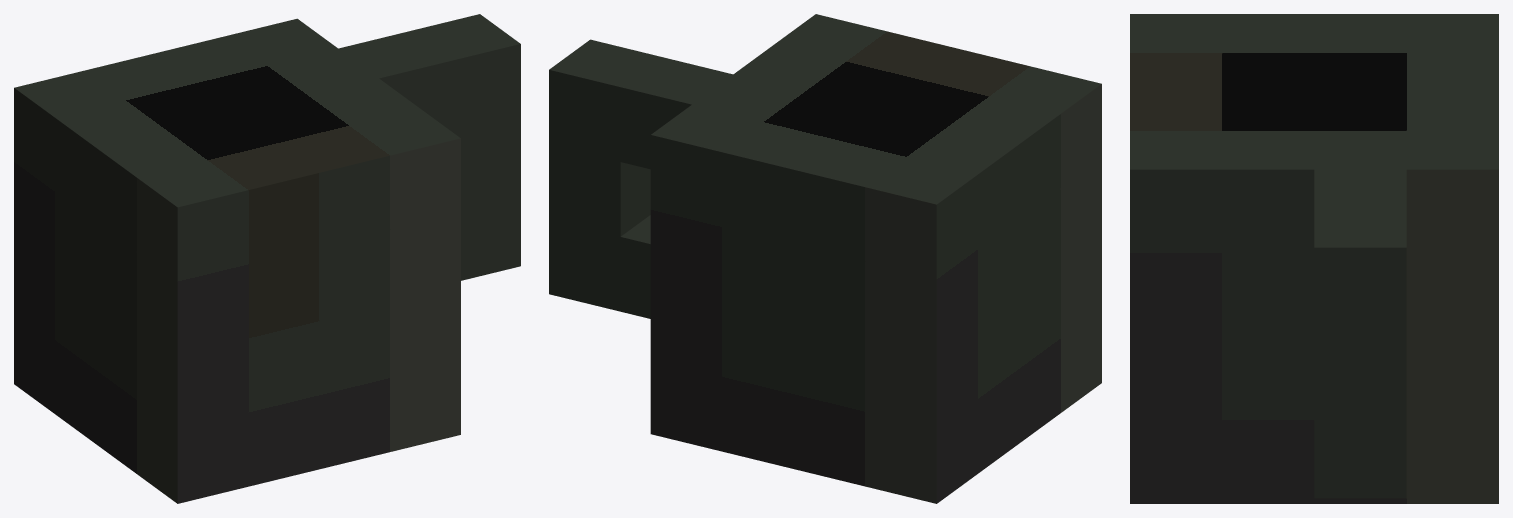
Rendered from mug.fbx.
3 views of the same model, side by side, from view 1: azimuth 30°, elevation 25°; view 2: azimuth 150°, elevation 25°; view 3: azimuth 270°, elevation 25° (orthographic). The views are drawn at different scales.
Visible parts, largest first — view 1: cube, cube_1, cube_2; view 2: cube, cube_1, cube_2, cube_3; view 3: cube, cube_1, cube_2.
Part boxes in pixels (x1,y1,x2,y2): cube: (14,18,460,503); cube_1: (409,14,520,280); cube_2: (338,31,449,129); cube: (650,14,1101,503); cube_1: (549,39,661,311); cube_2: (620,57,732,169); cube_3: (620,215,650,318); cube: (1130,14,1498,503); cube_1: (1314,208,1406,498); cube_2: (1314,169,1406,208).
Size of the model in its own units: 37.5 by 25 by 25.
Materials: 1 (1 with a texture image).
